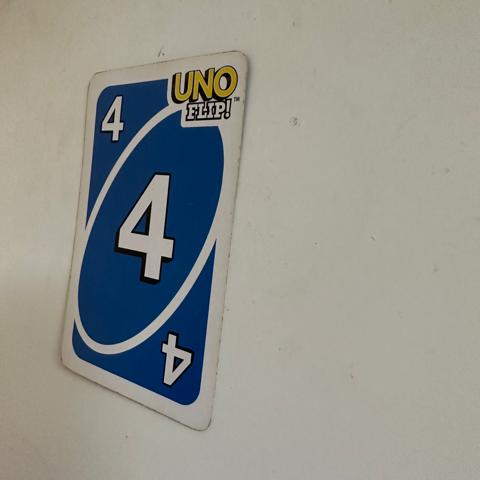lblue-4: (91, 81, 138, 157)
